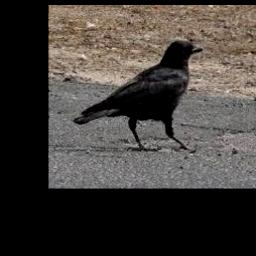Crow: (73, 39, 203, 153)
